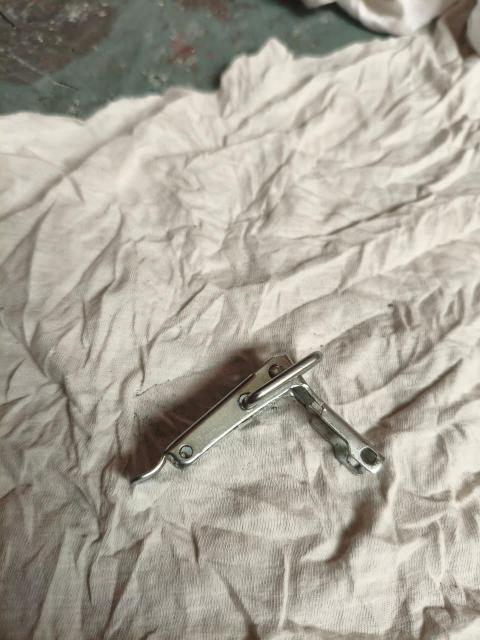Metal: (125, 350, 398, 487)
